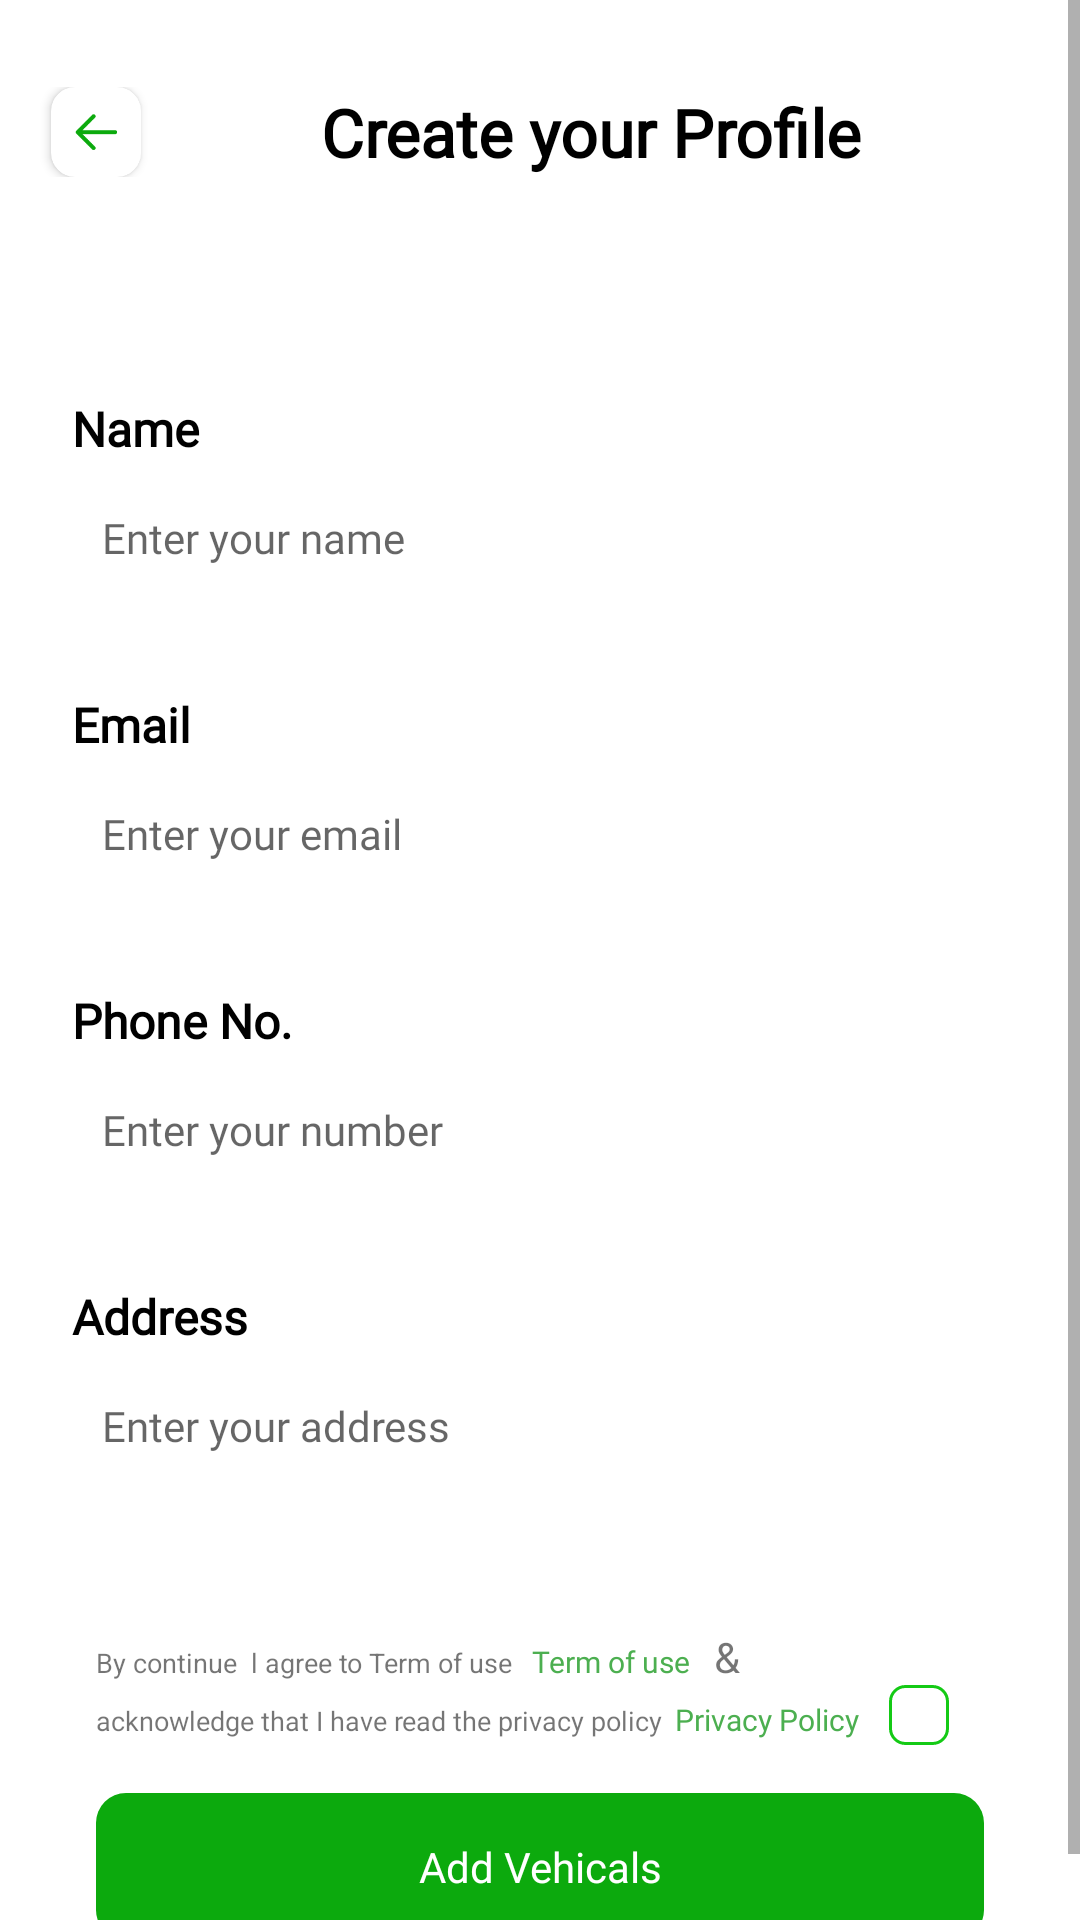

Icon bounding boxes for this 1080 × 1920 phone screenshot, format (x1, y1, x2, y2):
arrow back: (51, 90, 117, 177)
checkbox: (889, 1685, 949, 1745)
